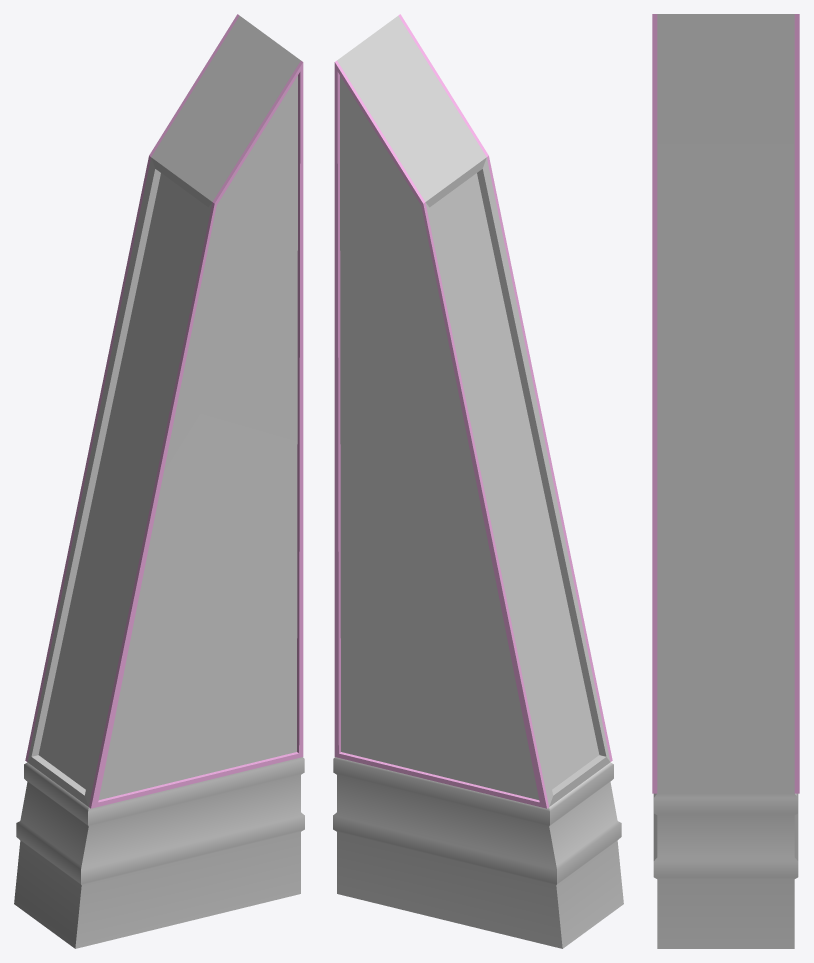
The model's file is SM_Environment_Buildings_Tall_02.fbx.
3 renders of one model, left to right at view 1: azimuth 30°, elevation 25°; view 2: azimuth 150°, elevation 25°; view 3: azimuth 270°, elevation 25°, orthographic. The views are drawn at different scales.
Parts seen in each view (by area): view 1: SM_Environment_Buildings_Tall_02, Lights; view 2: SM_Environment_Buildings_Tall_02, Lights; view 3: SM_Environment_Buildings_Tall_02, Lights.
Part boxes in pixels (<box>): SM_Environment_Buildings_Tall_02: <box>14,16,304,948</box>; Lights: <box>25,14,303,808</box>; SM_Environment_Buildings_Tall_02: <box>333,16,623,948</box>; Lights: <box>334,14,612,808</box>; SM_Environment_Buildings_Tall_02: <box>653,14,798,948</box>; Lights: <box>652,14,799,793</box>.
Size of the model in its own units: 15.46 by 54 by 7.72.
